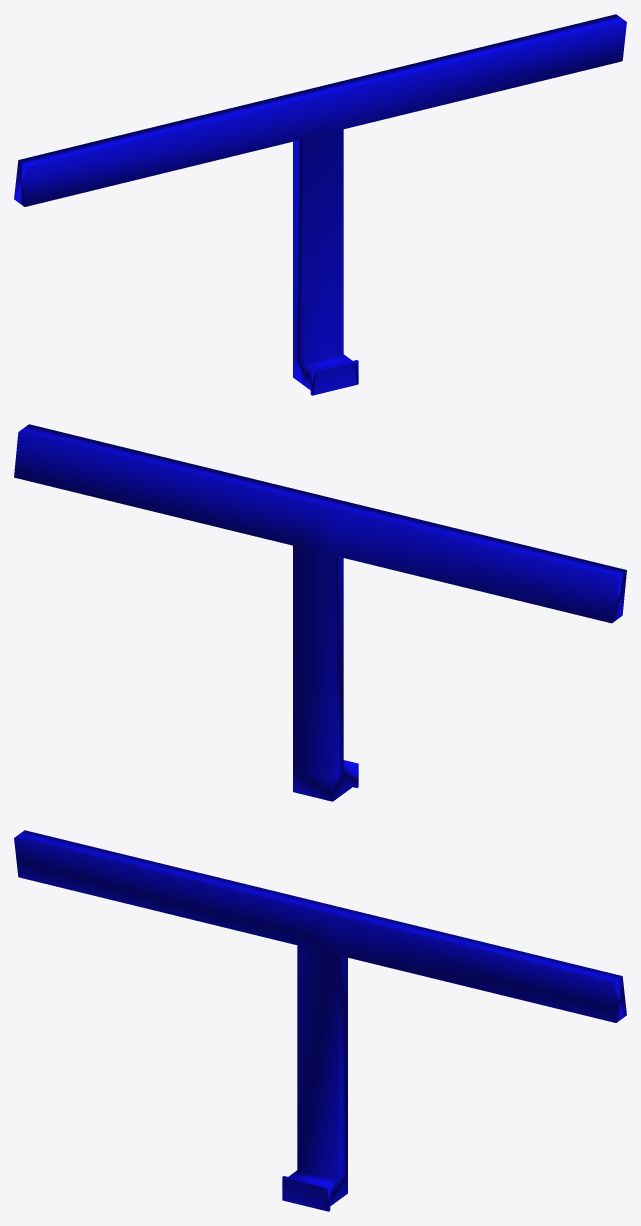
File: mdl_Corredor_Ventilas_techo.fbx
3 renders of one model, top to bottom at view 1: azimuth 30°, elevation 25°; view 2: azimuth 150°, elevation 25°; view 3: azimuth 330°, elevation 25°, orthographic.
Parts seen in each view (by area): view 1: mdl_Corredor_Ventilas_techo; view 2: mdl_Corredor_Ventilas_techo; view 3: mdl_Corredor_Ventilas_techo.
Part boxes in pixels (x1=…): mdl_Corredor_Ventilas_techo: x1=14, y1=14, x2=626, y2=395; mdl_Corredor_Ventilas_techo: x1=14, y1=424, x2=626, y2=801; mdl_Corredor_Ventilas_techo: x1=14, y1=830, x2=626, y2=1211.
Size of the model in its own units: 34.28 by 15.87 by 2.22.
